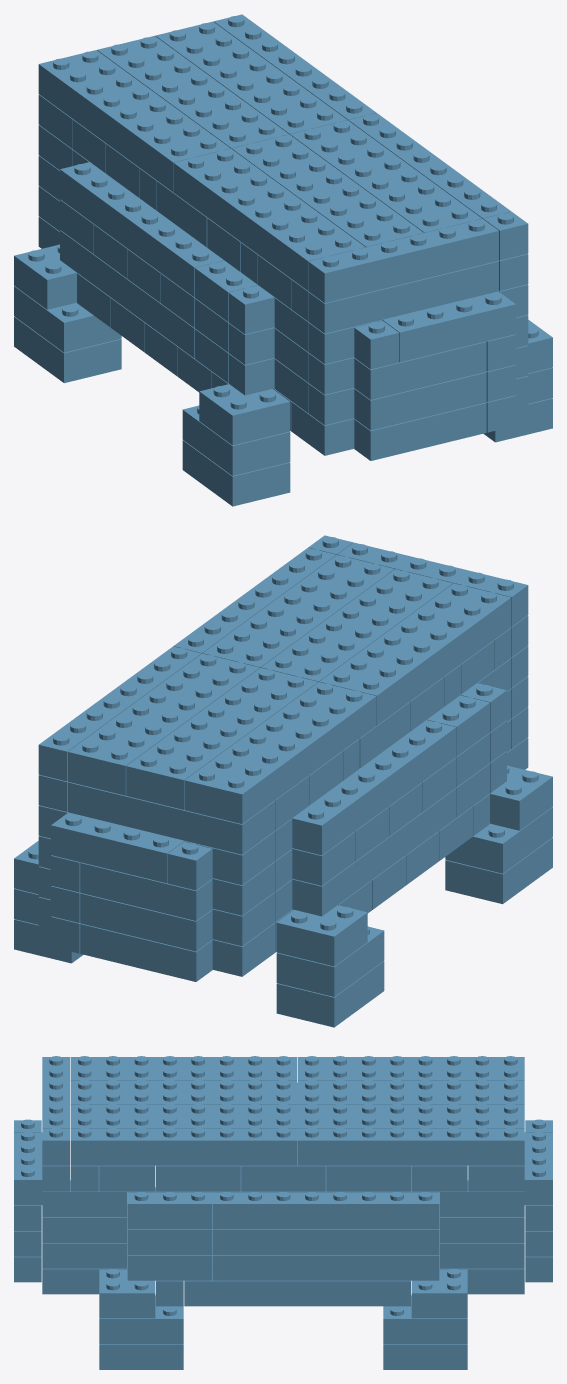
The model's file is collab_bus-L1-C1_raw.glb.
3 renders of one model, top to bottom at view 1: azimuth 30°, elevation 25°; view 2: azimuth 150°, elevation 25°; view 3: azimuth 270°, elevation 25°, orthographic. The views are drawn at different scales.
Bounding box in the file's own units: 10.98 × 8.13 × 18.98.
